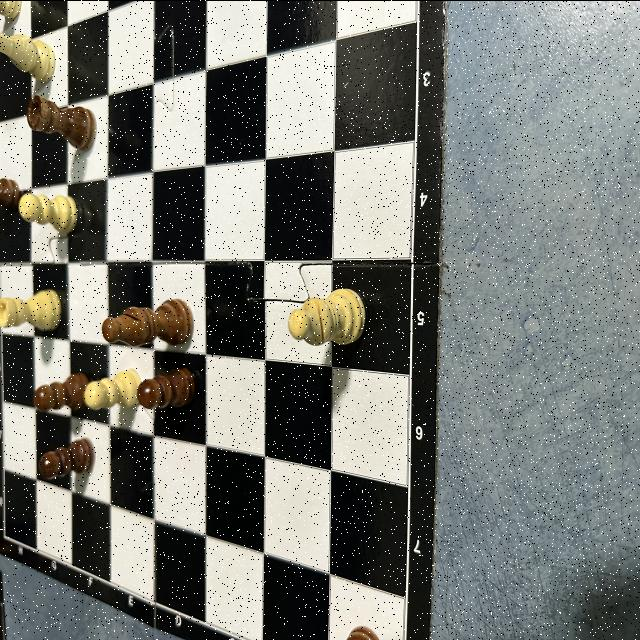Black-Bishop: (102, 298, 194, 348)
Black-Pawn: (137, 367, 195, 409), (37, 437, 95, 478), (32, 372, 94, 410)
Black-Rook: (26, 94, 96, 150)
White-Bishop: (288, 289, 366, 345)
White-Knight: (0, 31, 55, 80)
White-Pawn: (84, 368, 142, 408), (18, 193, 76, 230)
White-Rook: (0, 288, 61, 330)
